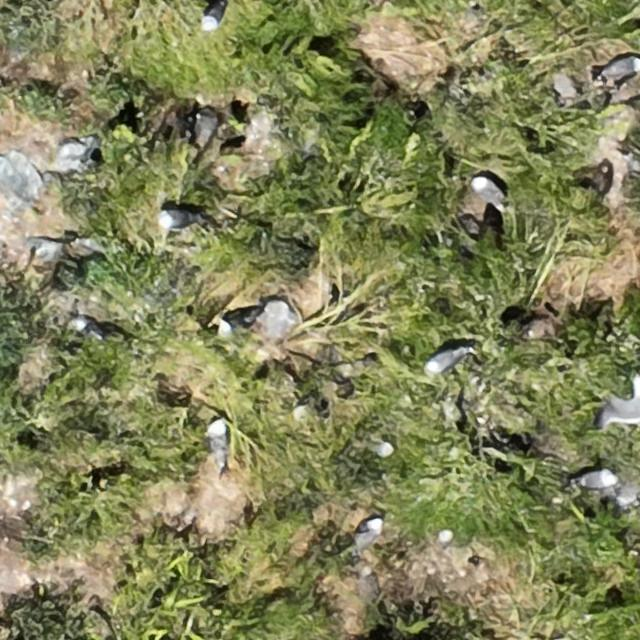F: (602, 368, 640, 429)
umineko: (220, 304, 258, 334), (356, 430, 397, 456), (68, 316, 105, 342), (209, 419, 229, 465), (472, 178, 500, 206), (356, 516, 382, 546), (427, 350, 462, 372), (602, 56, 638, 77), (575, 471, 613, 490), (159, 211, 193, 229), (203, 2, 224, 30), (625, 152, 639, 175)
